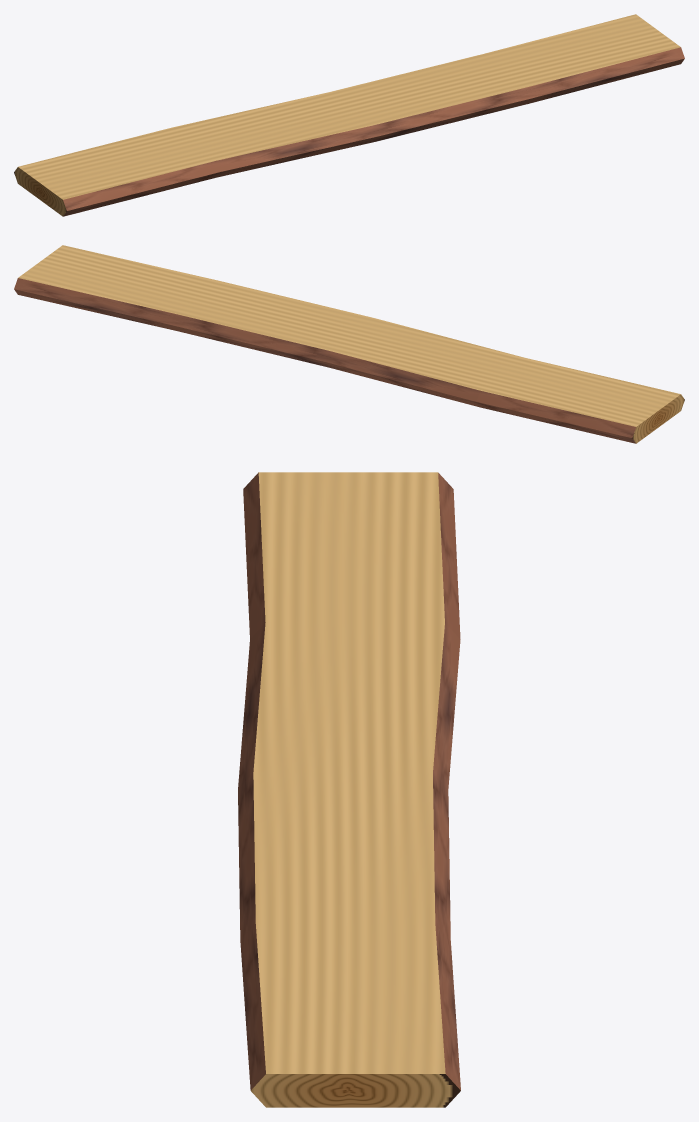
The model's file is slab.glb.
3 views of the same model, one above another, from view 1: azimuth 30°, elevation 25°; view 2: azimuth 150°, elevation 25°; view 3: azimuth 270°, elevation 25° (orthographic). The views are drawn at different scales.
Visible parts, largest first — view 1: slab; view 2: slab; view 3: slab.
Part boxes in pixels (bbox=[...]): slab: bbox=[14, 14, 684, 216]; slab: bbox=[14, 245, 684, 443]; slab: bbox=[238, 472, 460, 1107].
Size of the model in its own units: 2.3 by 0.06 by 0.3605.
1 material, 1 textured.
